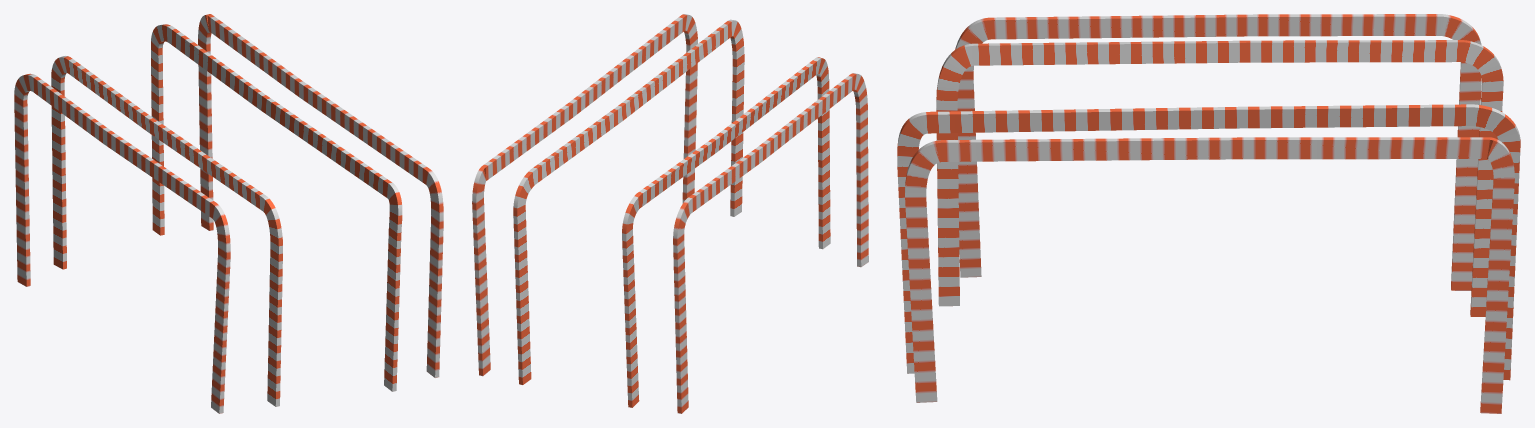
Rendered from ROADS-SIDES.fbx.
3 renders of one model, left to right at view 1: azimuth 30°, elevation 25°; view 2: azimuth 150°, elevation 25°; view 3: azimuth 270°, elevation 25°, orthographic. The views are drawn at different scales.
Visible parts, largest first — view 1: Sweep_2, Sweep_2_8, Sweep_2_6, Sweep_2_4; view 2: Sweep_2, Sweep_2_4, Sweep_2_8, Sweep_2_6; view 3: Sweep_2_4, Sweep_2_6, Sweep_2_8, Sweep_2.
Boxes of the visible parts, x1,y1,x2,y2 form: Sweep_2: [151, 24, 402, 391]; Sweep_2_8: [14, 73, 230, 413]; Sweep_2_6: [51, 56, 282, 406]; Sweep_2_4: [198, 14, 443, 377]; Sweep_2: [513, 19, 744, 384]; Sweep_2_4: [472, 14, 697, 376]; Sweep_2_8: [673, 73, 868, 413]; Sweep_2_6: [622, 57, 830, 407]; Sweep_2_4: [905, 137, 1514, 413]; Sweep_2_6: [936, 40, 1503, 316]; Sweep_2_8: [955, 14, 1481, 290]; Sweep_2: [897, 104, 1520, 380].
Size of the model in its own units: 14610 by 14598 by 29465.
3 materials, 3 textured.
